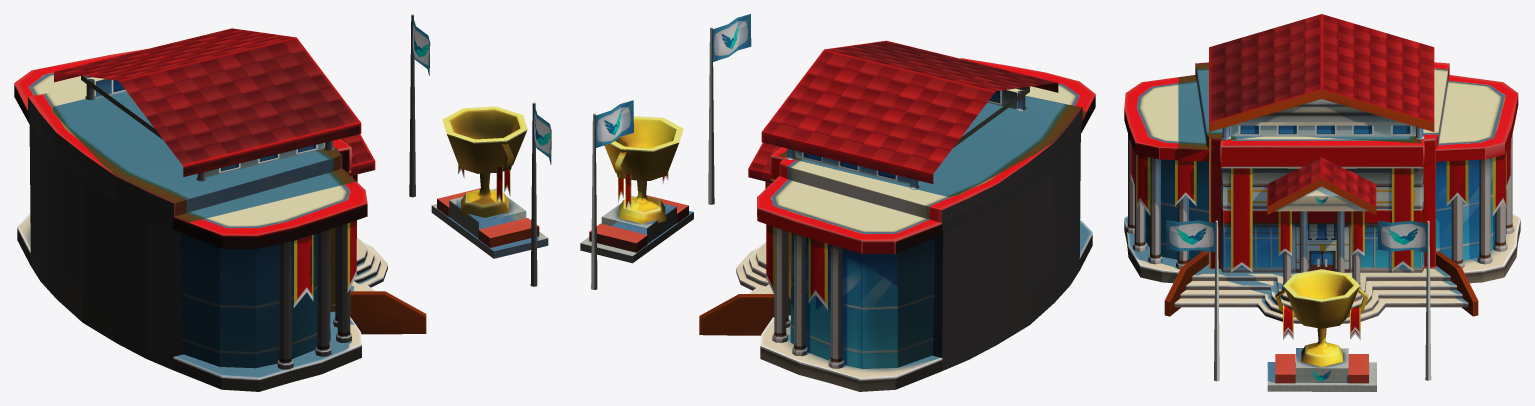
File: HallOfFame_20180523.fbx
The picture shows the model from 3 angles, left to right: view 1: azimuth 30°, elevation 25°; view 2: azimuth 150°, elevation 25°; view 3: azimuth 270°, elevation 25°; orthographic projection. The views are drawn at different scales.
Parts seen in each view (by area): view 1: mainbuilding, Trophy, sign, flat2, flat1, polySurface19, polySurface13; view 2: mainbuilding, Trophy, sign, flat2, flat1, polySurface18, polySurface17; view 3: mainbuilding, Trophy, sign, flat2, polySurface20, flat1, polySurface21, polySurface16, polySurface12, polySurface17, polySurface13, polySurface23 (+1 smaller).
Part boxes in pixels (x1=…): mainbuilding: x1=14, y1=28, x2=426, y2=391; Trophy: x1=442, y1=106, x2=527, y2=220; sign: x1=431, y1=188, x2=548, y2=258; flat2: x1=530, y1=102, x2=551, y2=286; flat1: x1=409, y1=14, x2=430, y2=197; polySurface19: x1=293, y1=234, x2=313, y2=307; polySurface13: x1=347, y1=220, x2=356, y2=292; mainbuilding: x1=699, y1=40, x2=1095, y2=391; Trophy: x1=604, y1=116, x2=683, y2=223; sign: x1=580, y1=195, x2=693, y2=263; flat2: x1=708, y1=14, x2=751, y2=204; flat1: x1=591, y1=100, x2=633, y2=289; polySurface18: x1=808, y1=238, x2=827, y2=309; polySurface17: x1=766, y1=224, x2=775, y2=295; mainbuilding: x1=1124, y1=14, x2=1520, y2=323; Trophy: x1=1275, y1=269, x2=1368, y2=366; sign: x1=1267, y1=348, x2=1376, y2=391; flat2: x1=1166, y1=220, x2=1219, y2=381; polySurface20: x1=1231, y1=168, x2=1252, y2=272; flat1: x1=1378, y1=220, x2=1431, y2=380; polySurface21: x1=1392, y1=168, x2=1413, y2=271; polySurface16: x1=1446, y1=160, x2=1468, y2=206; polySurface12: x1=1175, y1=160, x2=1196, y2=206; polySurface17: x1=1492, y1=151, x2=1506, y2=216; polySurface13: x1=1136, y1=155, x2=1150, y2=216; polySurface23: x1=1351, y1=211, x2=1364, y2=255.
Bounding box in the file's own units: 119 × 63.83 × 107.
